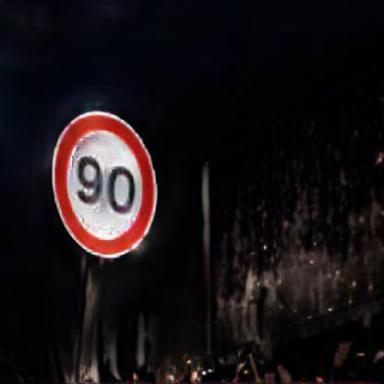Speed_limit_90: (55, 114, 154, 257)
